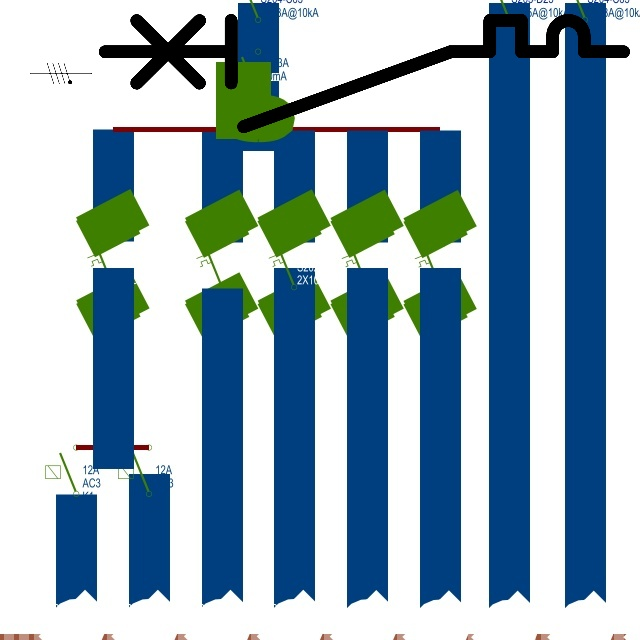interruptor_termomagnetico: (91, 7, 636, 140)
